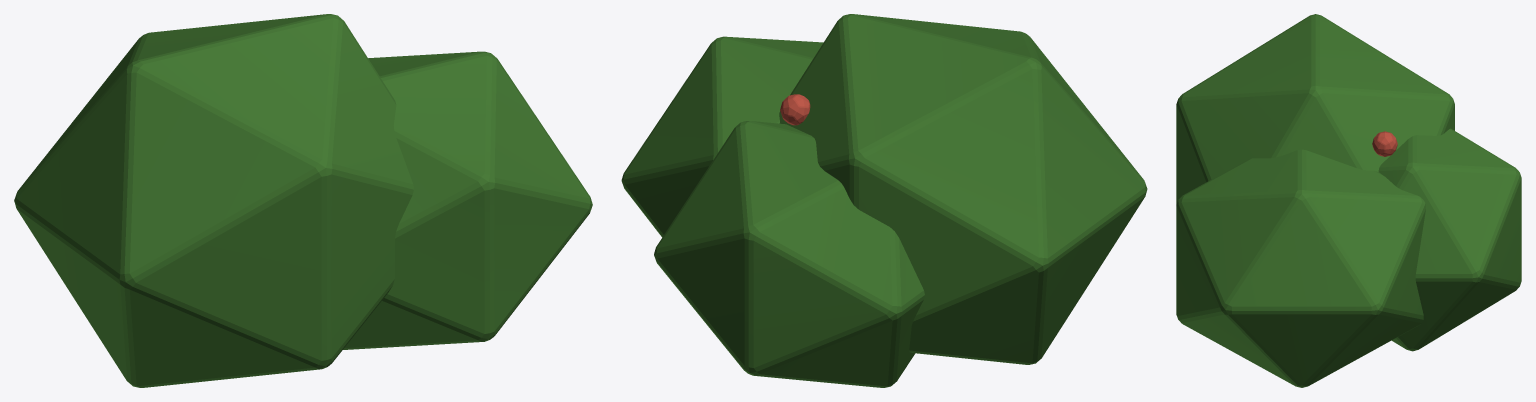
File: prop_bushBerry.glb
3 views of the same model, side by side, from view 1: azimuth 30°, elevation 25°; view 2: azimuth 150°, elevation 25°; view 3: azimuth 270°, elevation 25° (orthographic). The views are drawn at different scales.
Visible parts, largest first — view 1: prop_bushBerry_part_0; view 2: prop_bushBerry_part_0; view 3: prop_bushBerry_part_0.
Part boxes in pixels (bbox=[...]): prop_bushBerry_part_0: bbox=[14, 14, 592, 387]; prop_bushBerry_part_0: bbox=[621, 14, 1147, 387]; prop_bushBerry_part_0: bbox=[1176, 14, 1521, 387].
Size of the model in its own units: 1.78 by 1.18 by 1.5.
